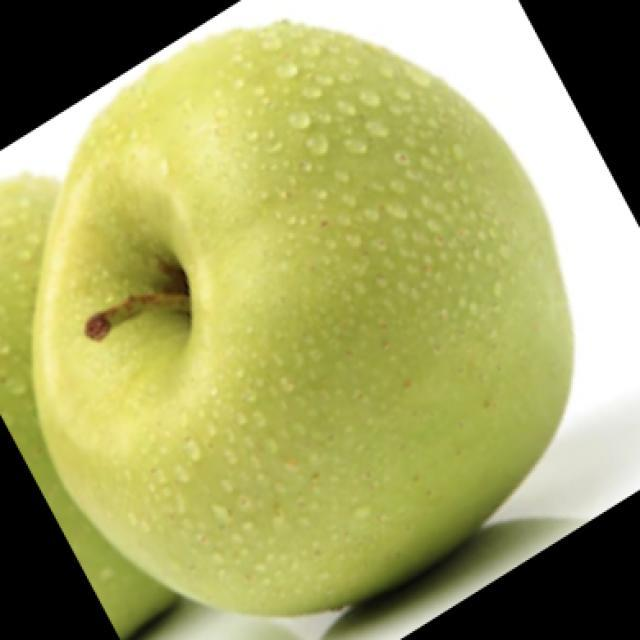Fresh Apple: (25, 23, 575, 619)
